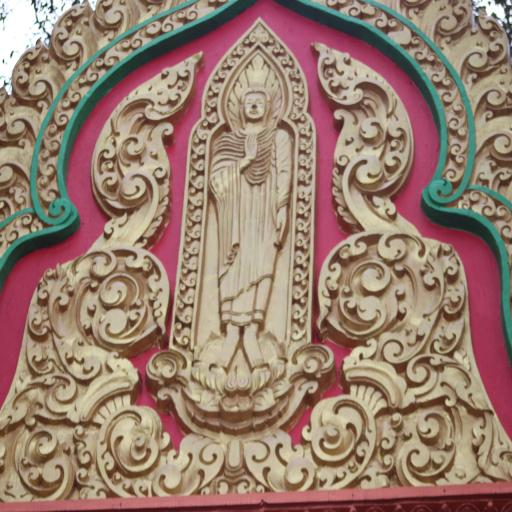la: (242, 396, 377, 508), (34, 252, 174, 351), (98, 405, 219, 510), (403, 354, 490, 496), (315, 226, 427, 334), (0, 378, 79, 511), (336, 107, 411, 223), (98, 120, 161, 247), (121, 49, 198, 127), (316, 41, 386, 104), (467, 4, 512, 73), (12, 40, 60, 103), (53, 0, 91, 63), (427, 0, 474, 45), (0, 91, 37, 146), (431, 316, 468, 352), (95, 0, 134, 30), (131, 18, 162, 49), (442, 278, 467, 316), (107, 33, 129, 67), (363, 1, 386, 32), (8, 211, 30, 243), (388, 15, 409, 48), (428, 50, 447, 86), (164, 6, 185, 36), (445, 153, 465, 184), (448, 127, 470, 154), (448, 98, 466, 131), (54, 93, 72, 126), (37, 148, 57, 176), (38, 174, 58, 202), (43, 119, 61, 150), (440, 73, 456, 107), (87, 54, 105, 83), (442, 242, 456, 279), (412, 36, 429, 66), (173, 320, 190, 348), (68, 74, 85, 101), (175, 296, 192, 322), (249, 24, 270, 44), (339, 0, 362, 18), (294, 260, 312, 282), (178, 281, 194, 305), (292, 298, 310, 318), (182, 250, 198, 272), (292, 320, 309, 340), (186, 219, 202, 240), (181, 265, 196, 287), (192, 134, 206, 157), (184, 236, 199, 256), (189, 185, 204, 205), (190, 168, 205, 188), (190, 153, 205, 172), (294, 279, 308, 299), (204, 106, 218, 126), (278, 48, 291, 69), (205, 88, 218, 108), (298, 151, 312, 169), (297, 198, 311, 216), (188, 204, 202, 222), (292, 72, 304, 92), (289, 106, 304, 122), (296, 230, 309, 248), (296, 216, 311, 231), (298, 120, 311, 137), (299, 137, 312, 154), (298, 168, 311, 185), (197, 121, 209, 139), (218, 61, 230, 79), (298, 184, 311, 200), (293, 92, 306, 107), (296, 248, 308, 264), (210, 76, 221, 93), (269, 36, 279, 54), (228, 50, 238, 68), (237, 41, 249, 55)
than: (206, 46, 294, 368)
